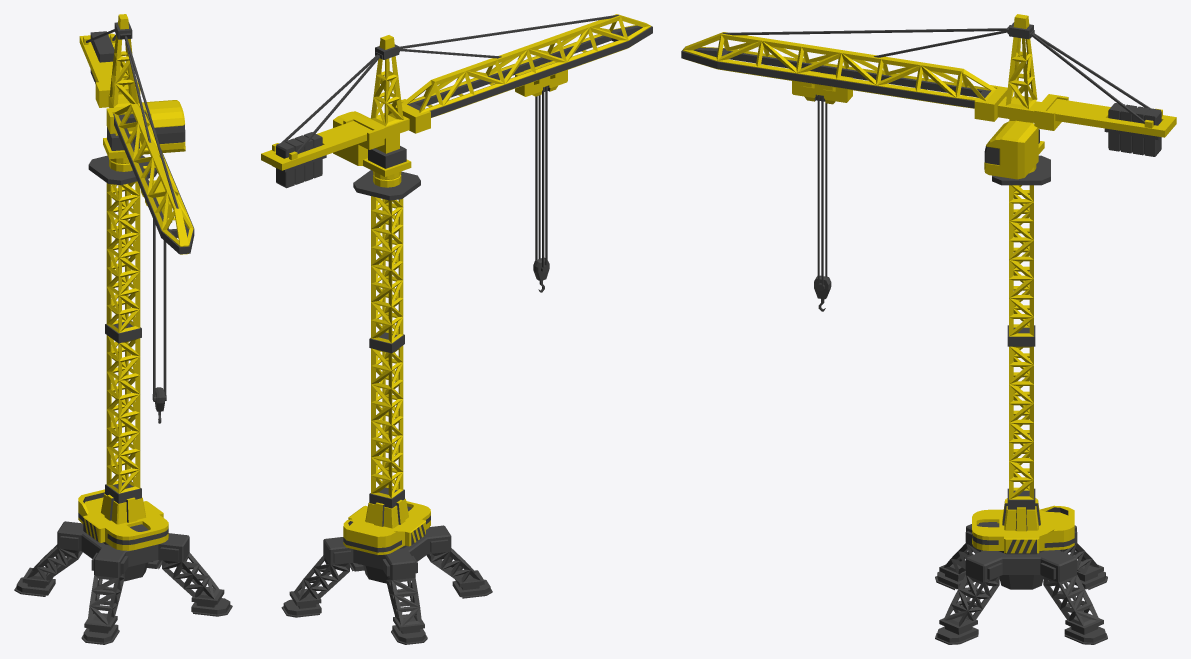
The model's file is crane.fbx.
3 views of the same model, side by side, from view 1: azimuth 30°, elevation 25°; view 2: azimuth 150°, elevation 25°; view 3: azimuth 270°, elevation 25° (orthographic). The views are drawn at different scales.
Parts seen in each view (by area): view 1: main, legs, beam, base stand, base hub, feet, booth, beam bulk, tower, weight holder, cables, base block (+6 smaller); view 2: main, beam, beam bulk, legs, base stand, base hub, weight holder, booth, feet, cables, tower, weights (+5 smaller); view 3: beam, main, beam bulk, legs, base stand, base hub, booth, weight holder, feet, weights, tower, cables (+5 smaller).
Part boxes in pixels (left/top/right/bottom): main: left=106, top=181, right=140, bottom=493; legs: left=27, top=544, right=219, bottom=624; beam: left=114, top=104, right=193, bottom=254; base stand: left=57, top=521, right=189, bottom=581; base hub: left=78, top=489, right=168, bottom=550; feet: left=14, top=560, right=232, bottom=644; booth: left=103, top=94, right=185, bottom=159; beam bulk: left=106, top=105, right=194, bottom=254; tower: left=109, top=35, right=137, bottom=107; weight holder: left=79, top=33, right=140, bottom=107; cables: left=153, top=219, right=166, bottom=396; base block: left=101, top=493, right=145, bottom=524; main: left=371, top=196, right=403, bottom=498; beam: left=402, top=14, right=651, bottom=117; beam bulk: left=391, top=25, right=652, bottom=133; legs: left=294, top=548, right=480, bottom=625; base stand: left=323, top=525, right=451, bottom=583; base hub: left=343, top=501, right=430, bottom=554; weight holder: left=261, top=115, right=384, bottom=170; booth: left=333, top=111, right=411, bottom=176; feet: left=281, top=562, right=492, bottom=644; cables: left=535, top=86, right=547, bottom=267; tower: left=370, top=56, right=403, bottom=126; weights: left=276, top=132, right=322, bottom=188; beam: left=682, top=32, right=996, bottom=108; main: left=1009, top=185, right=1033, bottom=499; beam bulk: left=681, top=46, right=1007, bottom=121; legs: left=943, top=543, right=1099, bottom=626; base stand: left=965, top=524, right=1077, bottom=589; base hub: left=972, top=505, right=1074, bottom=553; booth: left=984, top=96, right=1044, bottom=179; weight holder: left=1034, top=94, right=1176, bottom=137; feet: left=935, top=560, right=1107, bottom=644; weights: left=1108, top=103, right=1161, bottom=156; tower: left=1005, top=37, right=1037, bottom=109; cables: left=817, top=95, right=827, bottom=285.
Bounding box in the file's own units: 2028 × 6170 × 4678.
